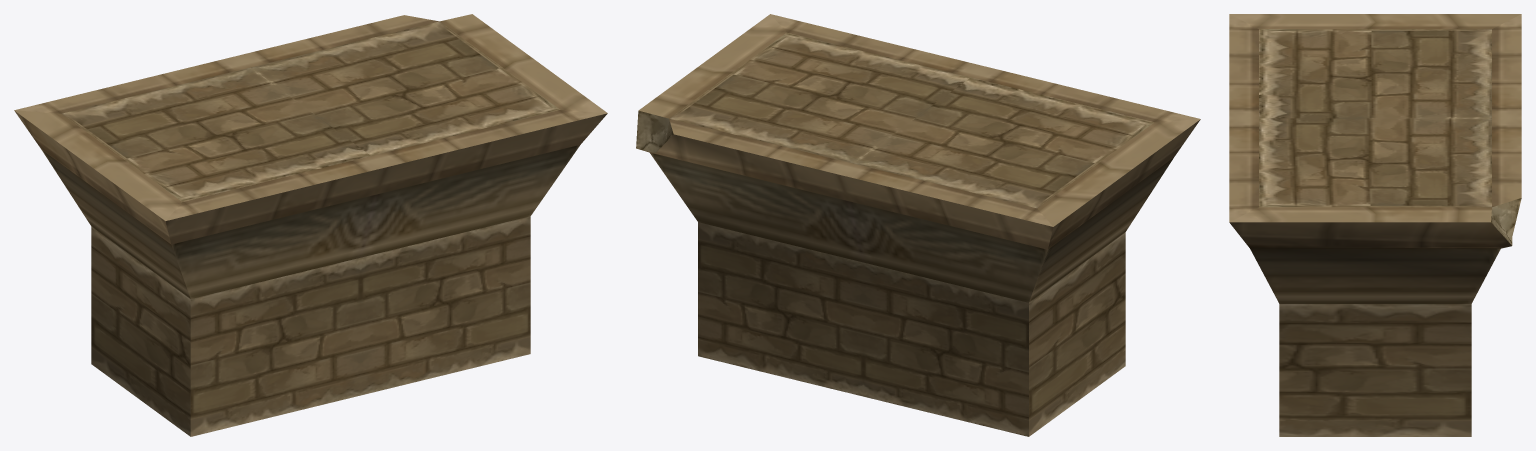
Rendered from TelNumara_GateB.FBX.
The picture shows the model from 3 angles, left to right: view 1: azimuth 30°, elevation 25°; view 2: azimuth 150°, elevation 25°; view 3: azimuth 270°, elevation 25°; orthographic projection. The views are drawn at different scales.
Parts seen in each view (by area): view 1: TelNumara_GateB; view 2: TelNumara_GateB; view 3: TelNumara_GateB.
Part boxes in pixels (<box>): TelNumara_GateB: <box>14,14,607,436</box>; TelNumara_GateB: <box>636,14,1200,436</box>; TelNumara_GateB: <box>1229,14,1521,436</box>.
Size of the model in its own units: 780 by 417 by 463.
1 material, 1 textured.
